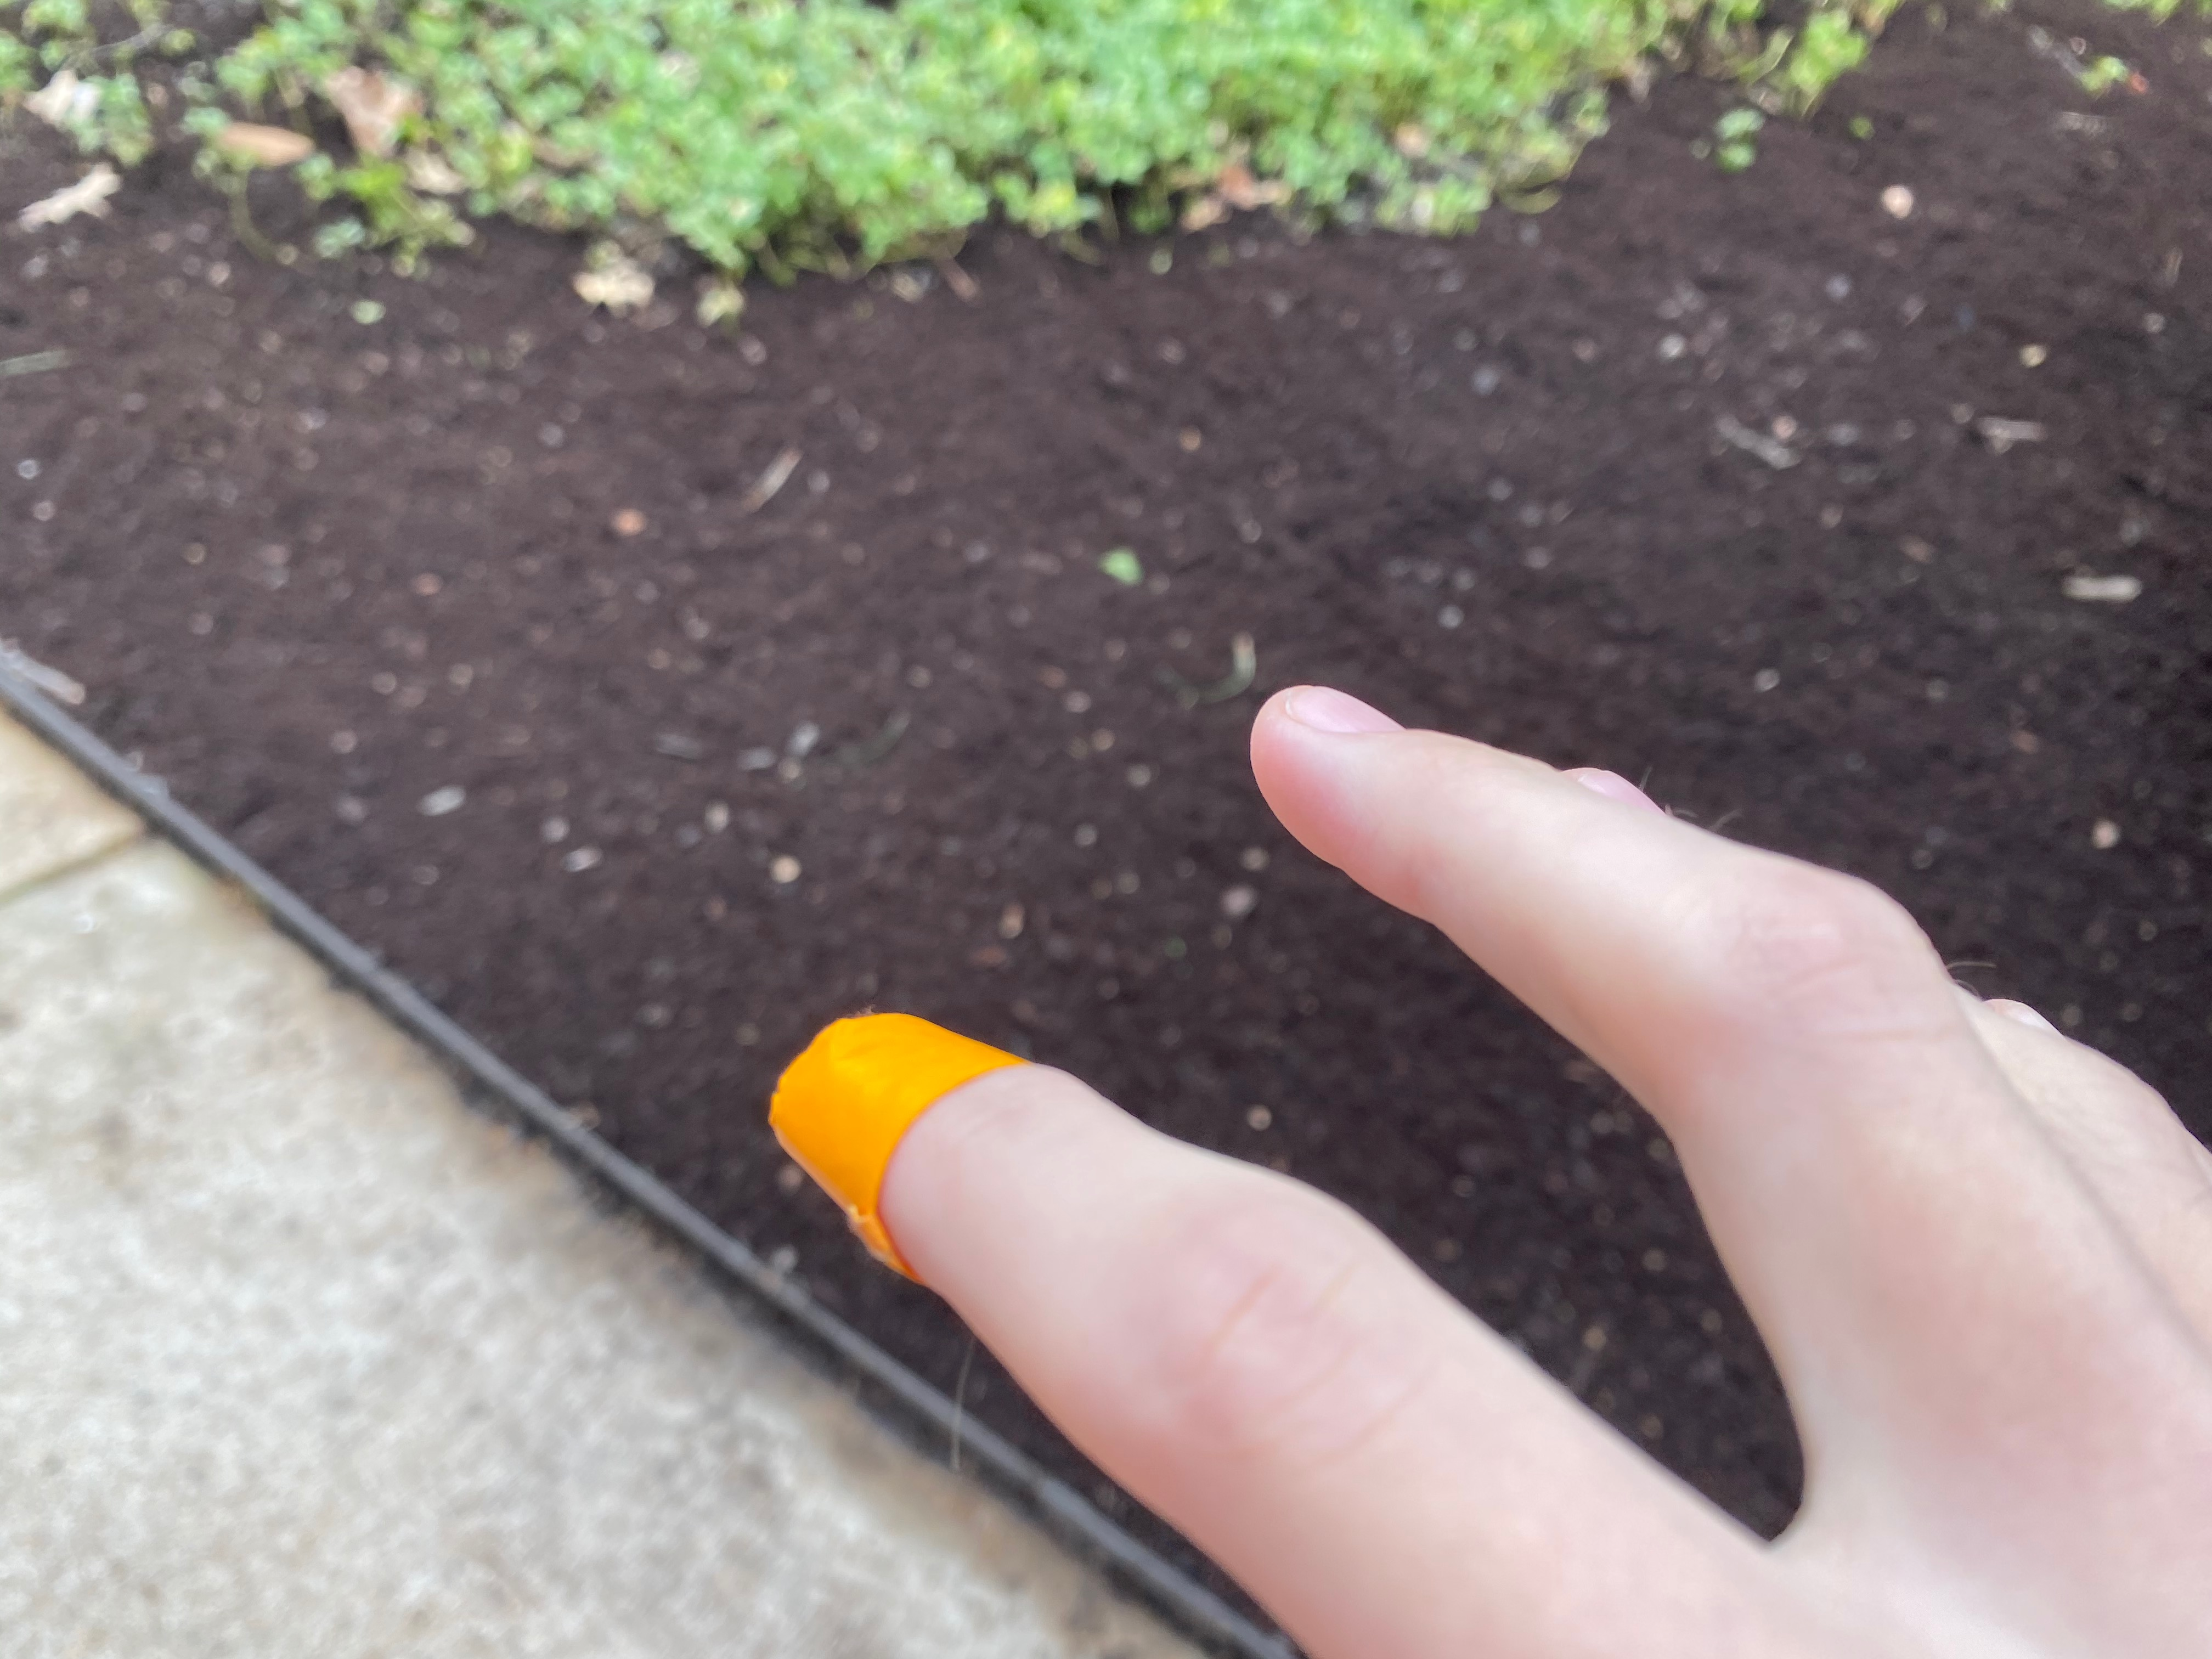fingertip: (733, 988, 1082, 1304)
